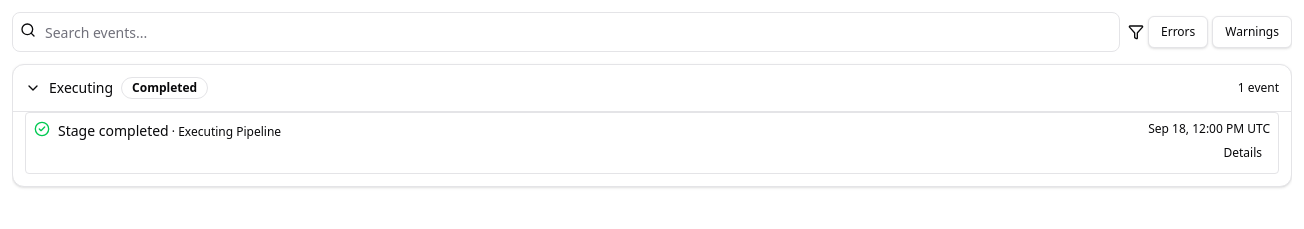
Activity names events in words, not database tokens (F-275) › keeps the codes behind the row's Details toggle
Expected: the text "seq: 42" is not shown
Expected: the text "trace: trace-abc" is not shown
Click the button "Details" at (1243, 153), box [1216,141,1270,165]
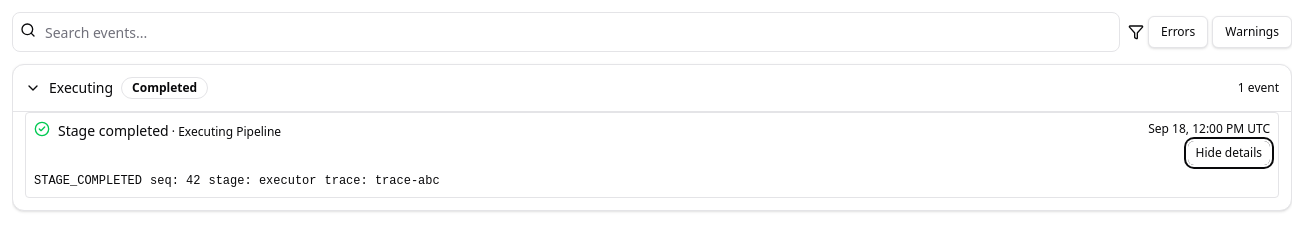
Expected: the text "STAGE_COMPLETED" is shown, [34,173,142,189]
Expected: the text "seq: 42" is shown, [150,173,200,189]
Expected: the text "stage: executor" is shown, [208,173,316,189]
